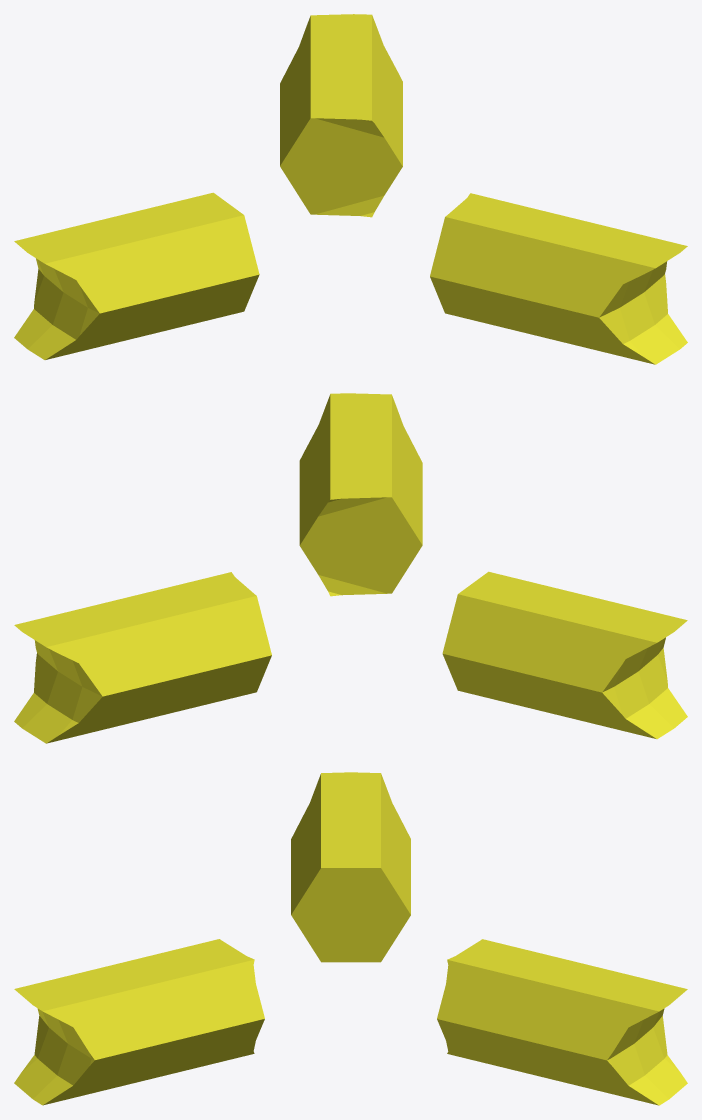
Rendered from playerBeams.glb.
The picture shows the model from 3 angles, top to bottom: view 1: azimuth 30°, elevation 25°; view 2: azimuth 150°, elevation 25°; view 3: azimuth 270°, elevation 25°; orthographic projection. The views are drawn at different scales.
Parts seen in each view (by area): view 1: New; view 2: New; view 3: New.
Part boxes in pixels (x1,y1,x2,y2): New: (14, 14, 687, 364); New: (14, 393, 687, 743); New: (14, 772, 687, 1105).
Bounding box in the file's own units: 2.85 × 0.5196 × 3.37.
